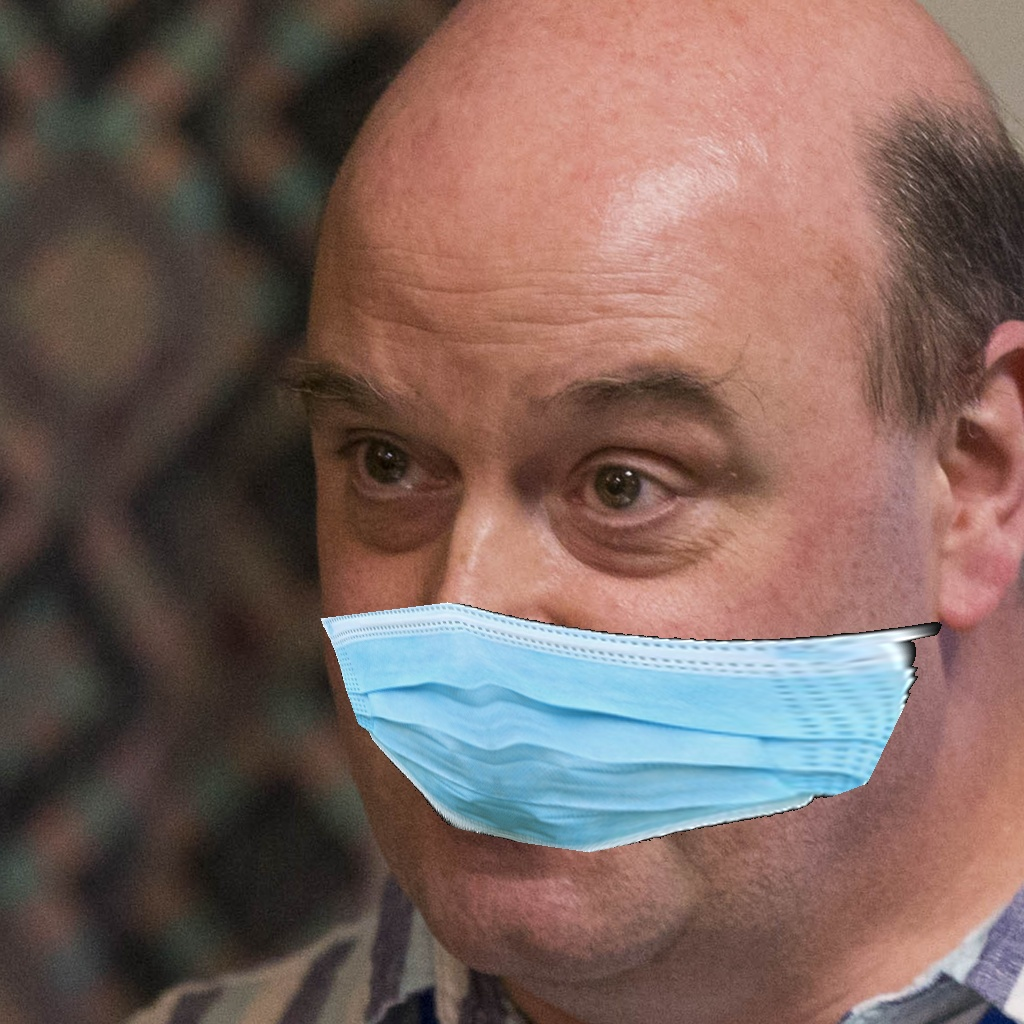Mask_Nose_Mouth: (309, 342, 944, 973)
